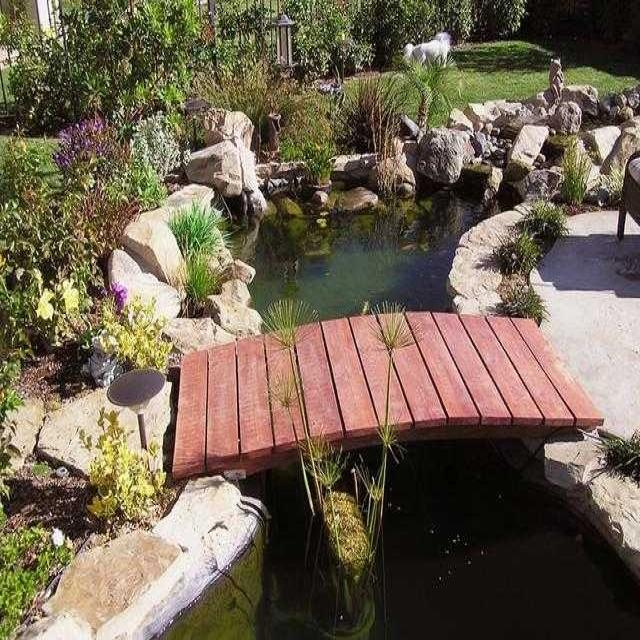Ponds: (104, 84, 640, 359), (10, 426, 640, 640)
